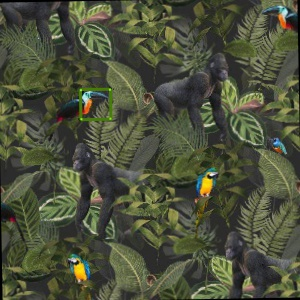square: (77, 84, 114, 123)
